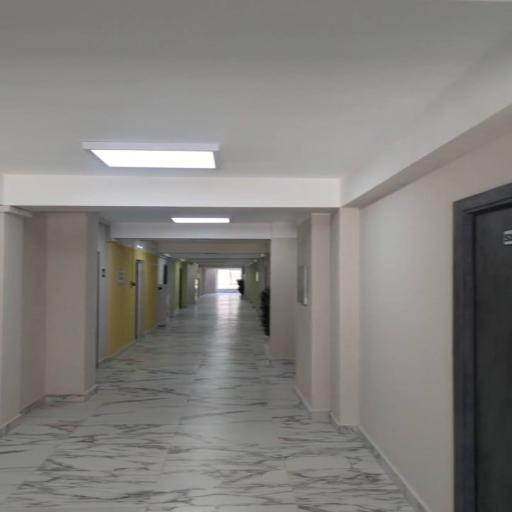child: (0, 0, 512, 512)
corridor: (475, 208, 511, 511), (136, 260, 144, 337)
